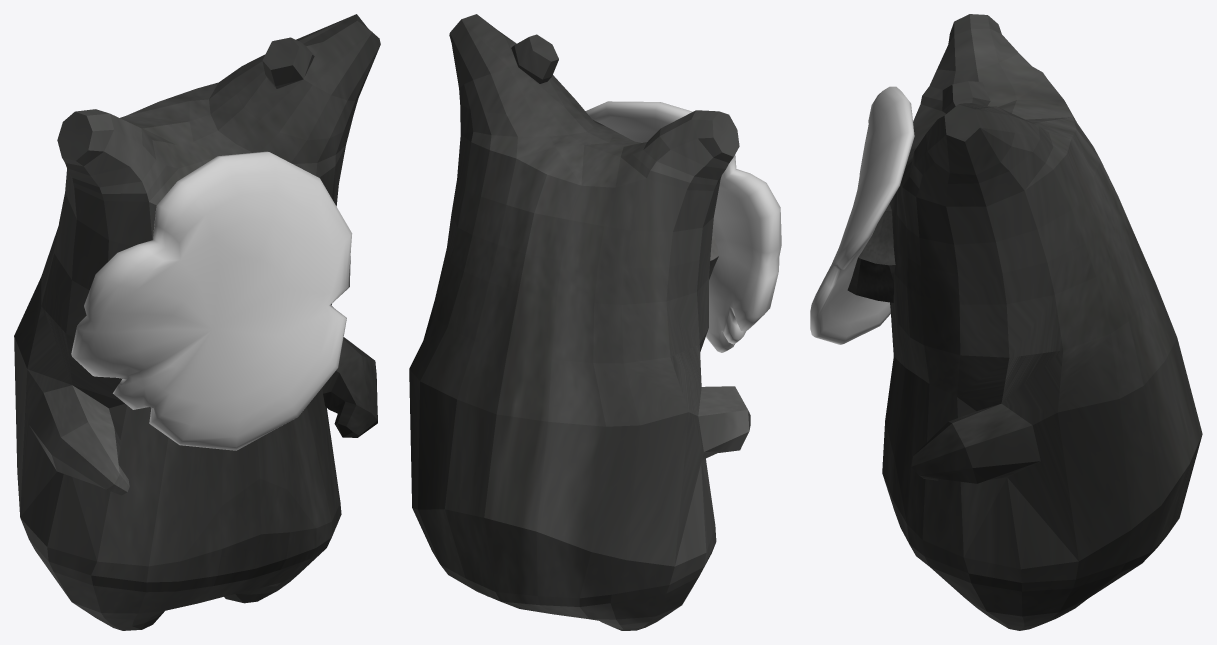
The model's file is frame_0007.obj.
3 renders of one model, left to right at view 1: azimuth 30°, elevation 25°; view 2: azimuth 150°, elevation 25°; view 3: azimuth 270°, elevation 25°, orthographic. The views are drawn at different scales.
Visible parts, largest first — view 1: korok, leaf; view 2: korok, leaf; view 3: korok, leaf, nose.
Boxes of the visible parts, box(x1,y1,x2,y2) form: korok: box(14, 14, 380, 630); leaf: box(71, 151, 352, 450); korok: box(409, 14, 750, 630); leaf: box(585, 101, 781, 352); korok: box(882, 14, 1202, 630); leaf: box(810, 86, 914, 344); nose: box(847, 203, 895, 302).
Bounding box in the file's own units: 1.3 × 2.23 × 1.42.
